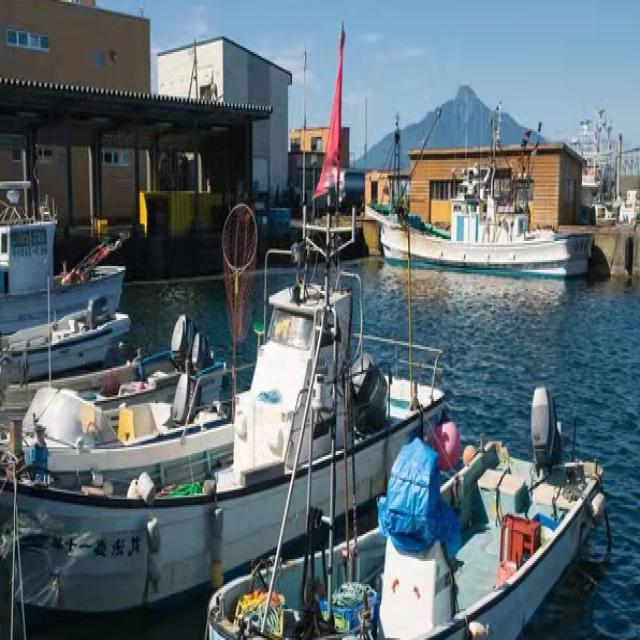fishing boat: (0, 291, 420, 594), (231, 353, 604, 640), (0, 293, 228, 430), (368, 160, 600, 262)
